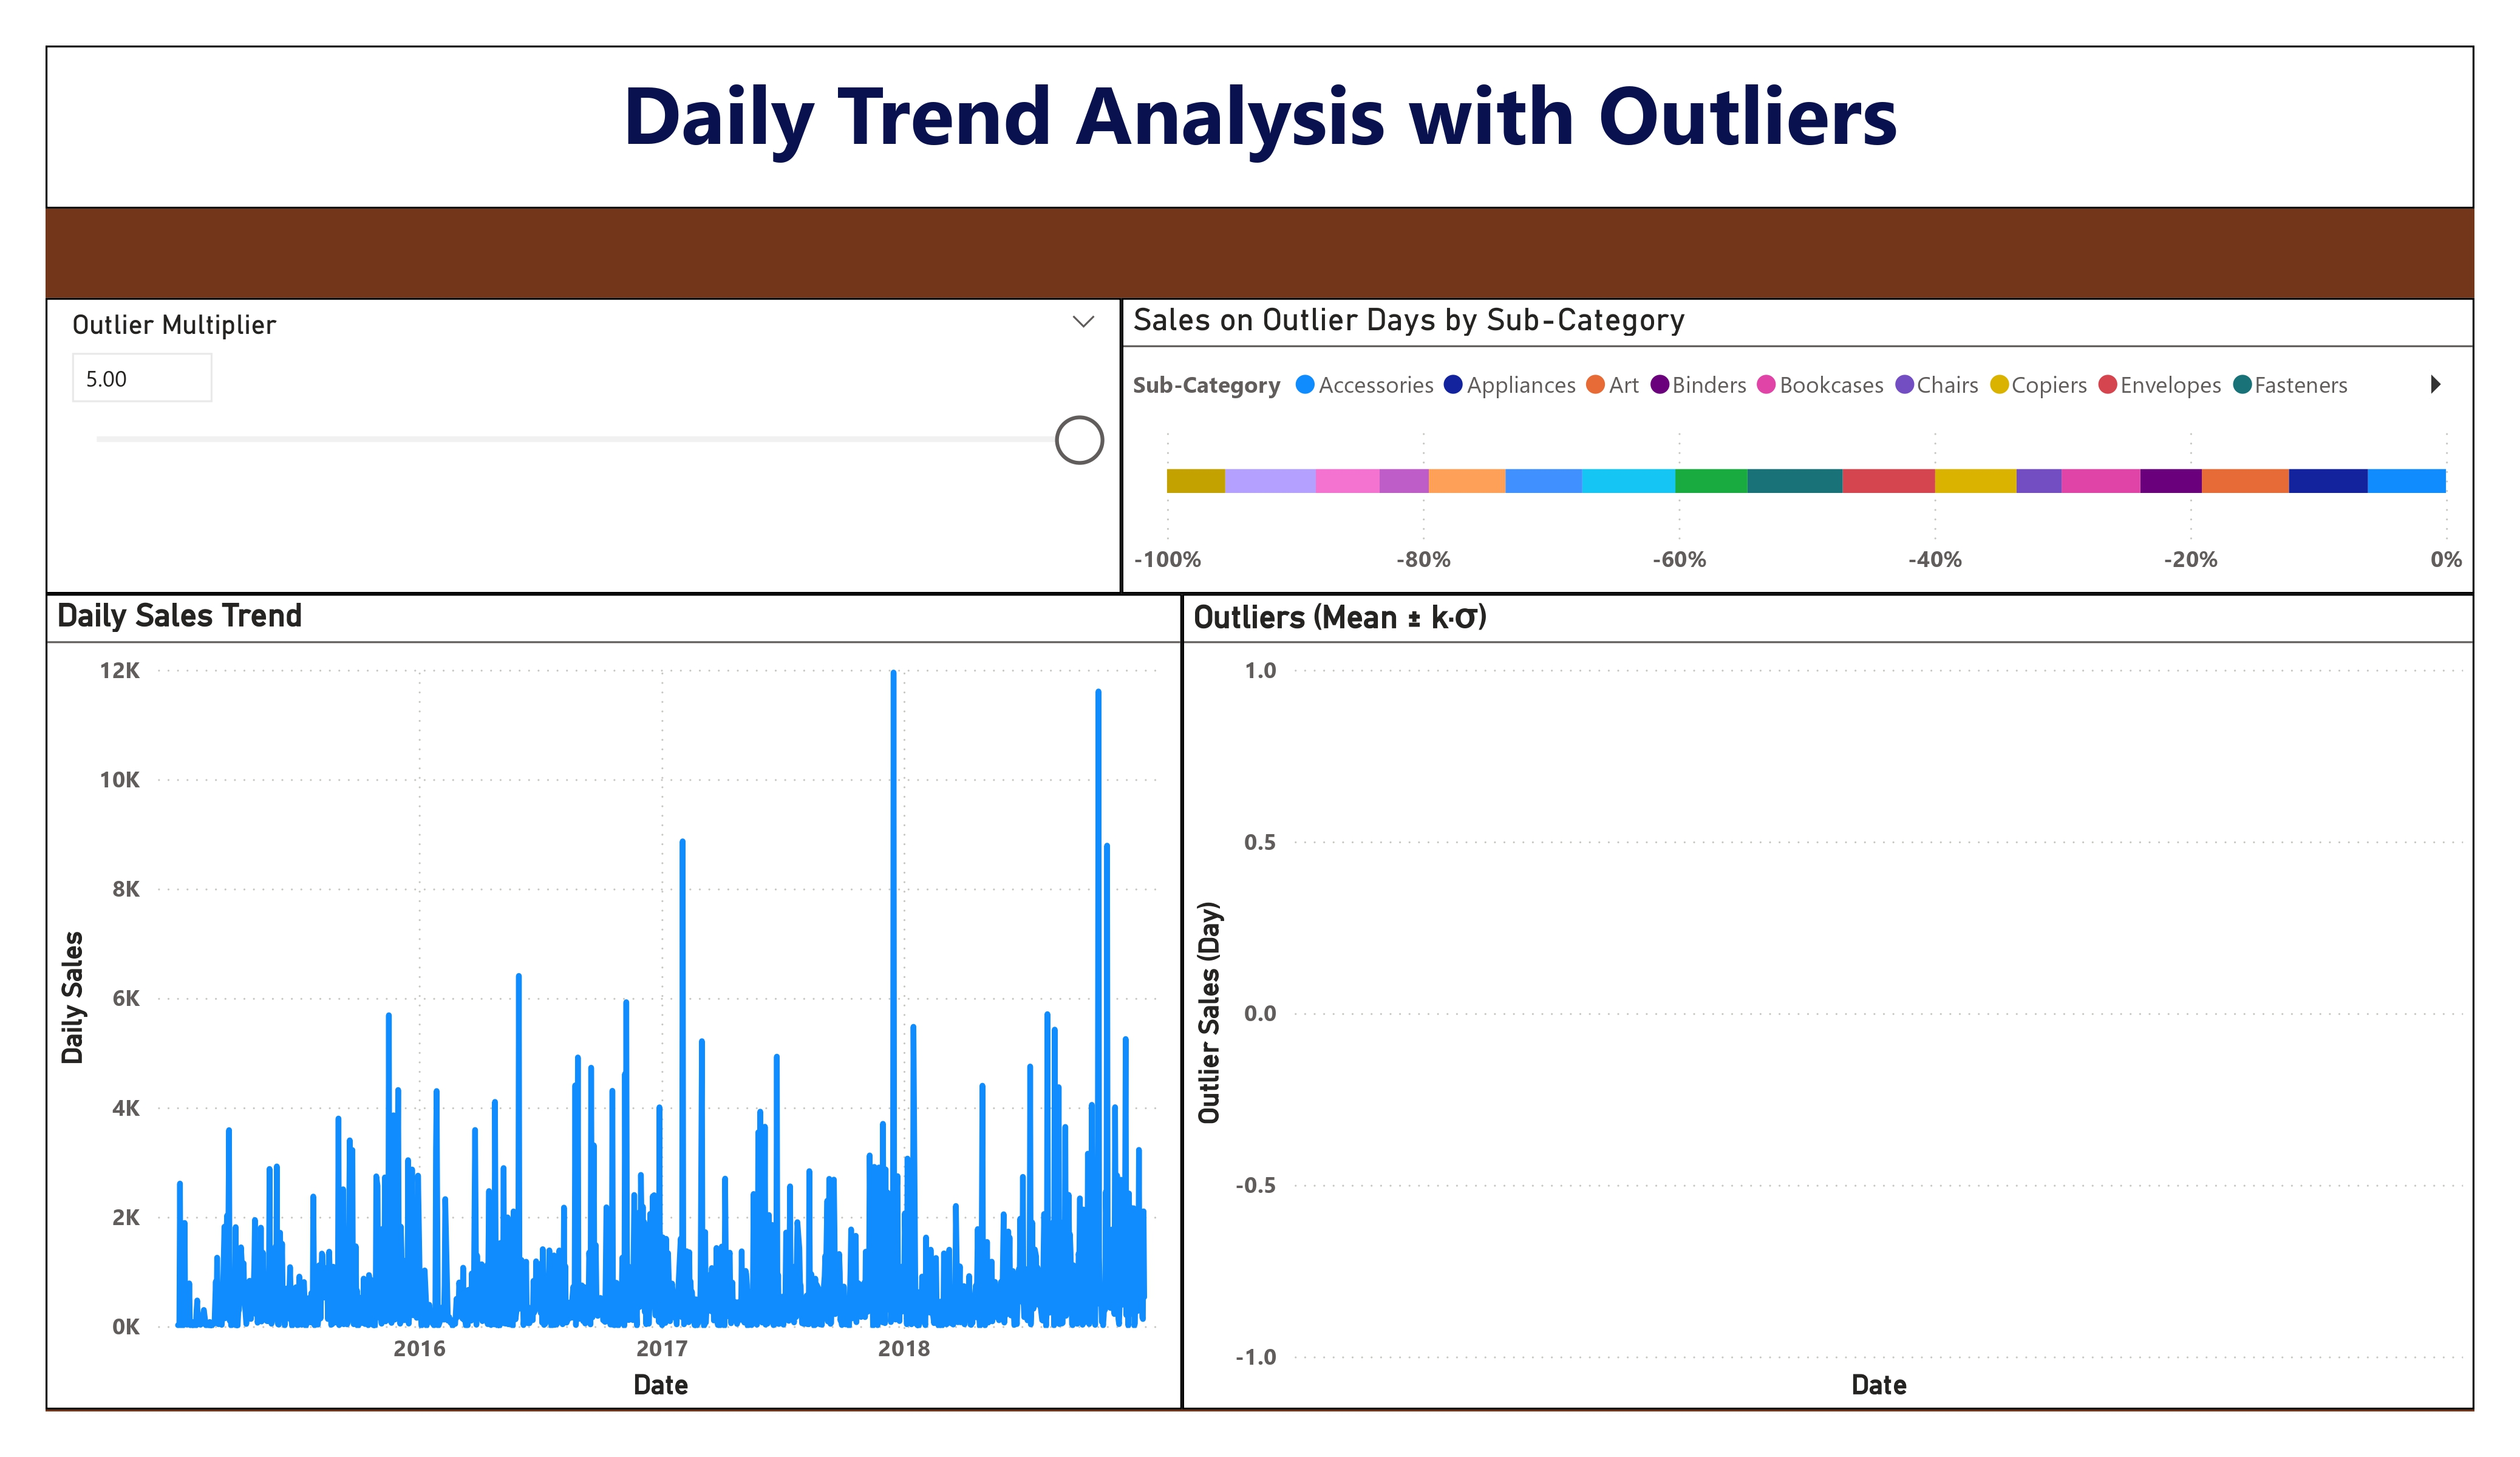

What the dashboard file says about the page in this screenshot:
{"tool":"powerbi","page":{"name":"Daily Trend Analysis with Outliers","canvas":[1280,720],"ordinal":13},"visuals":[{"type":"slicer","fields":{"Values":["Outlier Multiplier.Outlier Multiplier"]},"box":[0,132.9,567.1,155.7],"z":0},{"type":"lineChart","title":"Daily Sales Trend","fields":{"Category":["Date.Date"],"Y":["Append1.Daily Sales"]},"box":[0,288.6,598.6,430],"z":1000},{"type":"scatterChart","title":"Outliers (Mean ± k·σ)","fields":{"X":["Date.Date"],"Y":["Append1.Outlier Sales (Day)"]},"box":[598.6,288.6,681.4,430],"z":2000},{"type":"hundredPercentStackedBarChart","title":"Sales on Outlier Days by Sub-Category","fields":{"Y":["Append1.Sales % Change"],"Series":["Append1.Sub-Category"]},"box":[567.1,132.9,712.9,155.7],"z":3000},{"type":"textbox","box":[0,0,1280,85.7],"z":4000}]}

Visuals, with their boxes on the page's 1280x720 design canvas (x1, y1, x2, y2). These are canvas units, not pixel positions in the 2520x1457 screenshot, which may show the page scaled, cropped or inside an application window:
slicer - Outlier Multiplier.Outlier Multiplier: locate(0, 133, 567, 289)
"Daily Sales Trend" lineChart: locate(0, 289, 599, 719)
"Outliers (Mean ± k·σ)" scatterChart: locate(599, 289, 1280, 719)
"Sales on Outlier Days by Sub-Category" hundredPercentStackedBarChart: locate(567, 133, 1280, 289)
textbox: locate(0, 0, 1280, 86)
